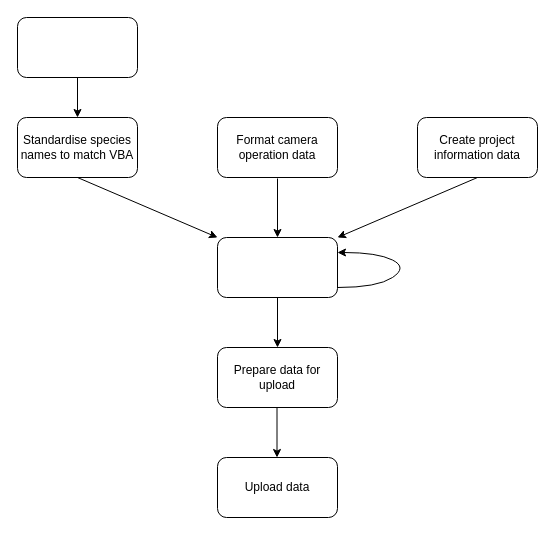
This 555x535 diagram has some shape labels left out. Each missing label, with the centre of its shape:
"Extract image data into 'RecordTable' (camtrapR)" belongs at point 77,47.
"Run data quality checks" belongs at point 277,267.
